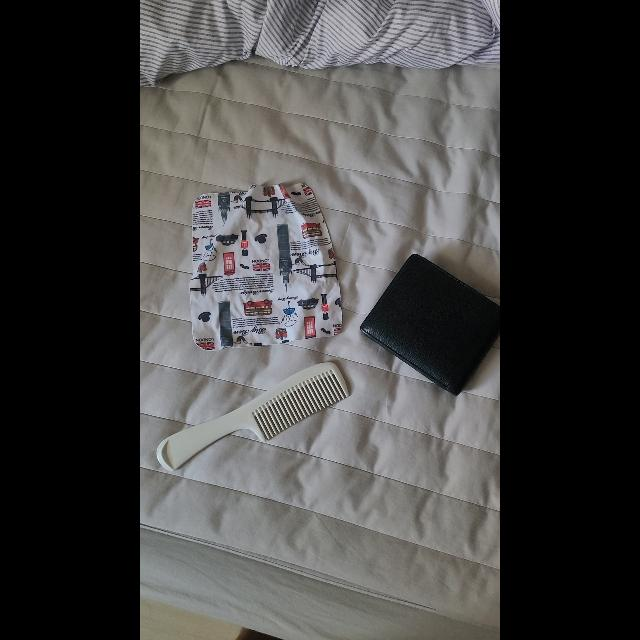COMB: (157, 362, 349, 472)
Glasses cleaning cloth: (190, 181, 342, 351)
WALLET: (360, 252, 500, 396)
